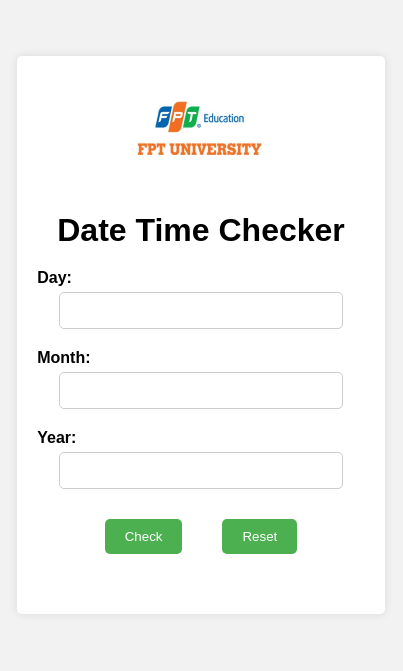
Test case: DateTimeChecker › Check The date is valid
Type "29" into the field labelled "Day:" at (201, 310), box 59,292 -> 343,329
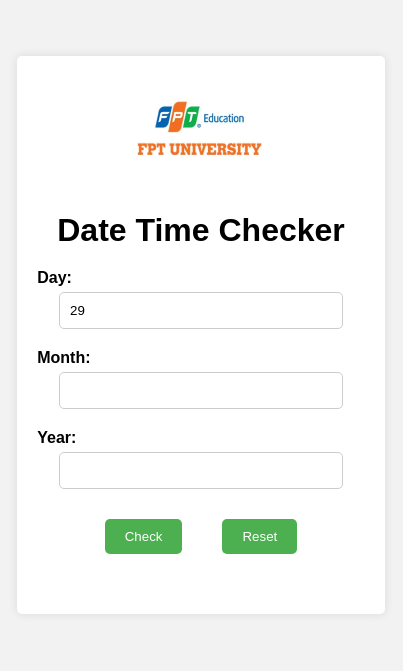
Type "4" into the field labelled "Month:" at (201, 390), box 59,372 -> 343,409
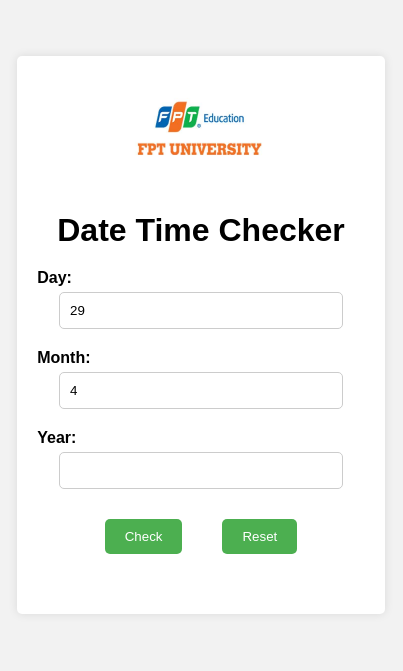
Type "2000" into the field labelled "Year:" at (201, 470), box 59,452 -> 343,489
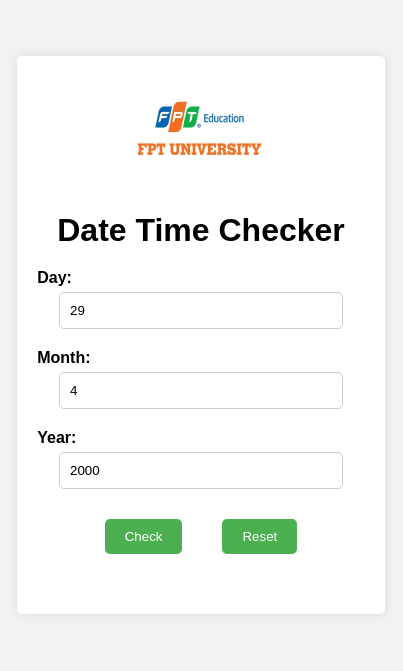
Click the button "Check" at (144, 536), box 105,519 -> 182,554
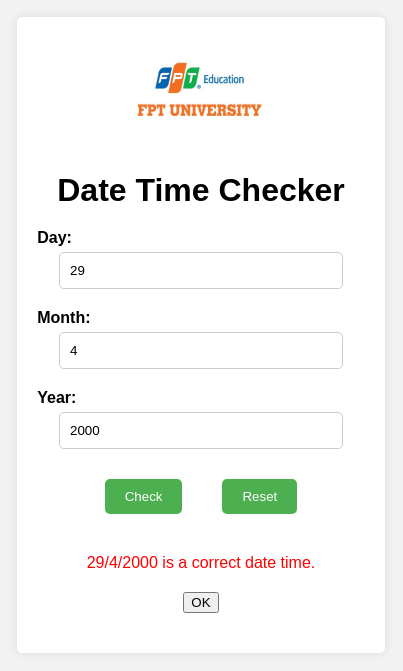
expect the text "29/4/2000 is a correct date time." is shown: met, box 87,554 -> 315,571
